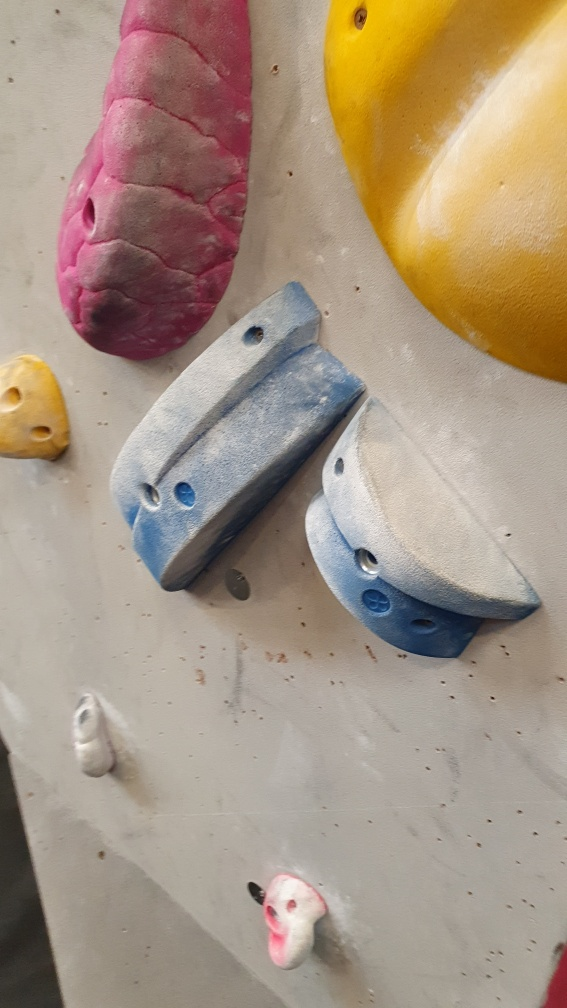Hand Start: (222, 569, 254, 604), (240, 876, 268, 911)
Pinch: (107, 277, 372, 597), (299, 392, 543, 661)
